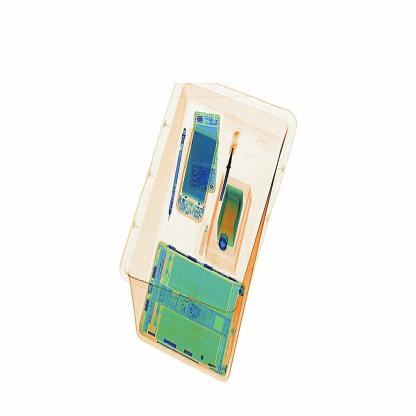gun: (218, 127, 234, 197)
